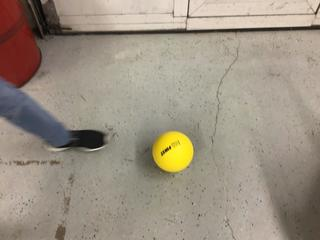power_cell: (148, 130, 195, 175)
